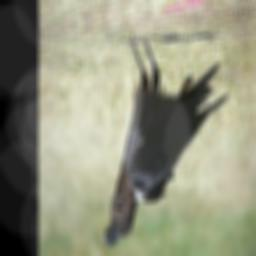Crow: (88, 15, 238, 249)
